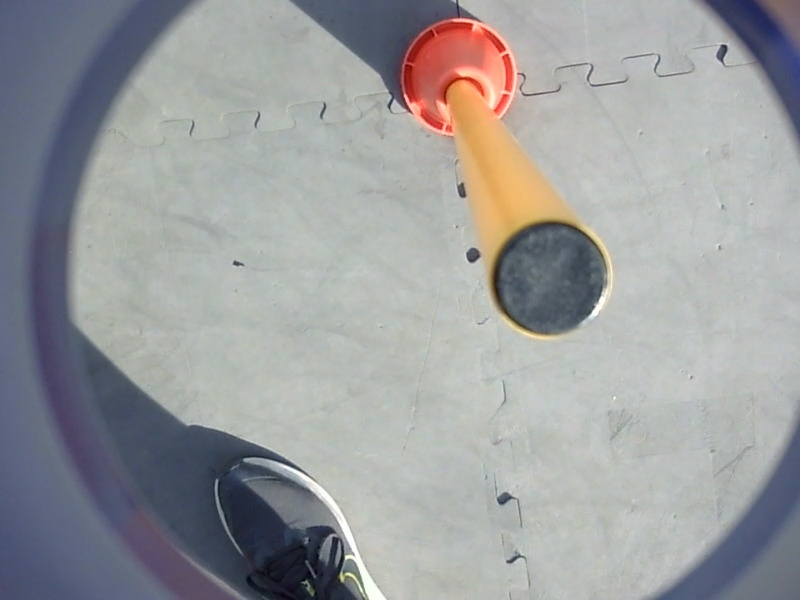tip: (484, 211, 618, 345)
